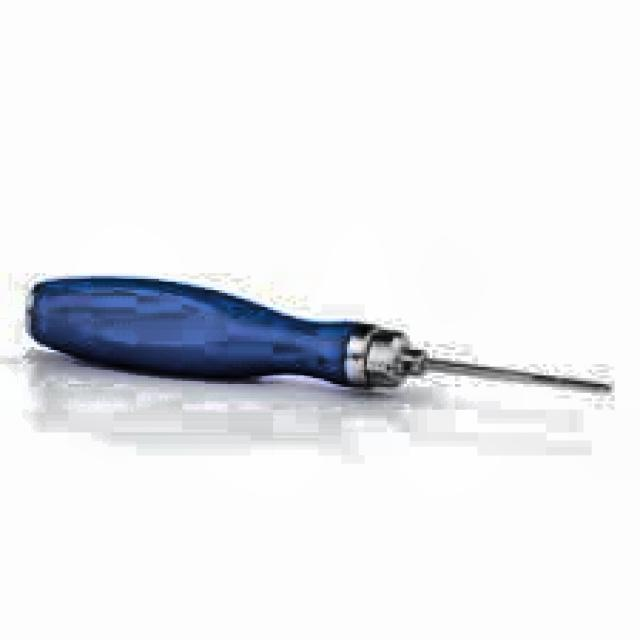screwdriver: (26, 272, 612, 394)
